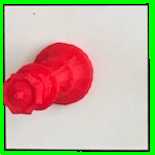Red Queen: (2, 39, 94, 120)
